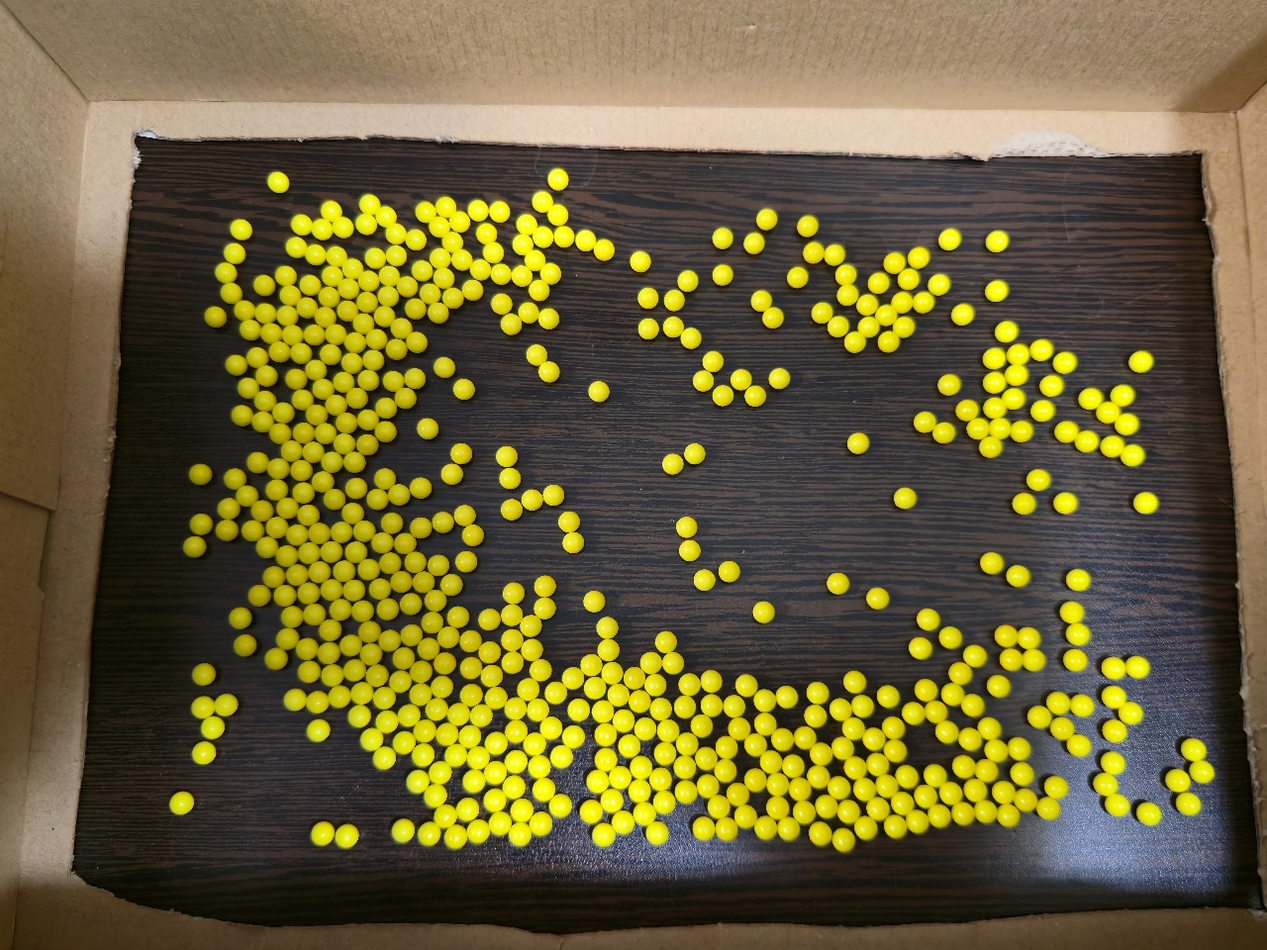yellow_bead: (591, 387, 599, 391), (771, 375, 781, 378), (507, 321, 513, 325), (461, 512, 466, 516), (669, 460, 674, 464), (700, 579, 706, 582), (459, 386, 465, 389), (603, 625, 608, 628), (357, 714, 360, 718), (700, 377, 704, 380), (440, 363, 444, 366), (544, 316, 550, 318), (569, 540, 574, 542), (548, 494, 553, 496), (525, 310, 530, 312), (582, 238, 587, 240), (554, 177, 559, 179), (448, 583, 452, 585), (685, 279, 689, 281), (440, 275, 444, 277), (636, 259, 640, 261), (481, 716, 483, 719), (590, 601, 593, 603), (683, 524, 686, 526), (533, 352, 536, 354), (688, 335, 691, 337), (644, 327, 647, 329), (436, 310, 439, 312), (421, 267, 424, 269), (460, 257, 463, 259), (438, 255, 441, 257), (365, 197, 367, 200), (384, 758, 386, 760), (496, 743, 498, 745), (641, 728, 645, 729), (437, 709, 439, 711), (383, 698, 385, 700), (591, 687, 593, 689), (439, 521, 443, 522), (854, 442, 856, 444), (413, 376, 415, 378), (669, 325, 671, 327), (644, 296, 648, 297), (386, 294, 388, 296), (429, 291, 431, 293), (519, 274, 523, 275), (498, 272, 502, 273), (751, 241, 755, 242), (719, 237, 723, 238), (496, 210, 500, 211), (403, 830, 404, 833), (575, 710, 578, 711), (436, 564, 439, 565), (448, 472, 451, 473), (330, 460, 333, 461), (425, 427, 428, 428), (710, 359, 713, 360), (400, 326, 403, 327), (539, 235, 542, 236), (346, 836, 347, 838), (423, 755, 425, 756), (616, 695, 618, 696), (464, 560, 466, 561), (397, 493, 399, 494), (691, 452, 693, 453), (384, 406, 386, 407), (246, 386, 248, 387), (342, 380, 344, 381), (367, 378, 369, 379), (350, 361, 352, 362), (363, 321, 364, 323), (497, 302, 499, 303), (471, 288, 473, 289), (388, 273, 390, 274), (415, 238, 417, 239), (395, 232, 397, 233), (364, 222, 366, 223), (277, 181, 279, 182), (653, 834, 654, 835), (501, 823, 502, 824), (436, 796, 437, 797), (474, 782, 475, 783), (440, 773, 441, 774), (790, 766, 791, 767), (478, 758, 479, 759), (562, 757, 563, 758), (469, 737, 470, 738), (409, 715, 410, 716), (535, 710, 536, 711), (761, 701, 762, 702), (294, 700, 295, 701), (783, 697, 784, 698), (651, 685, 652, 686), (605, 649, 606, 650), (447, 636, 448, 637), (307, 513, 308, 514), (530, 499, 531, 500), (376, 498, 377, 499), (303, 491, 304, 492), (354, 487, 355, 488), (504, 455, 505, 456), (405, 396, 406, 397), (393, 379, 394, 380), (739, 377, 740, 378), (256, 355, 257, 356), (1043, 349, 1044, 350), (453, 296, 454, 297), (407, 284, 408, 285), (720, 273, 721, 274), (284, 273, 285, 274), (550, 271, 551, 272), (352, 266, 353, 267), (533, 258, 534, 259), (373, 255, 374, 256), (396, 254, 397, 255), (831, 252, 832, 253), (234, 251, 235, 252), (492, 250, 493, 251), (999, 239, 1000, 240), (321, 228, 322, 229), (526, 223, 527, 224), (385, 215, 386, 216), (478, 209, 479, 210), (542, 200, 543, 201), (926, 619, 926, 620)
